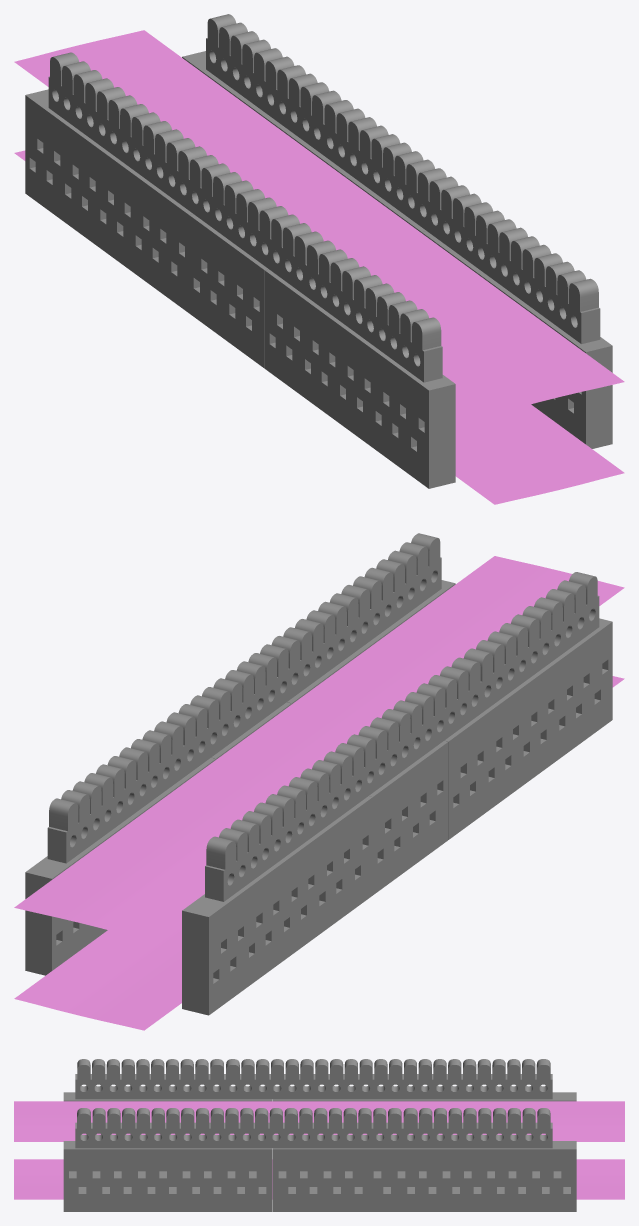
Rendered from little_bridge.fbx.
3 renders of one model, top to bottom at view 1: azimuth 30°, elevation 25°; view 2: azimuth 150°, elevation 25°; view 3: azimuth 270°, elevation 25°, orthographic. The views are drawn at different scales.
Parts seen in each view (by area): view 1: Little_bridge; view 2: Little_bridge; view 3: Little_bridge.
Boxes of the visible parts, x1,y1,x2,y2 form: Little_bridge: (14, 14, 624, 504); Little_bridge: (14, 533, 624, 1030); Little_bridge: (14, 1059, 624, 1211).
Bounding box in the file's own units: 1.91 × 1.52 × 8.64.
